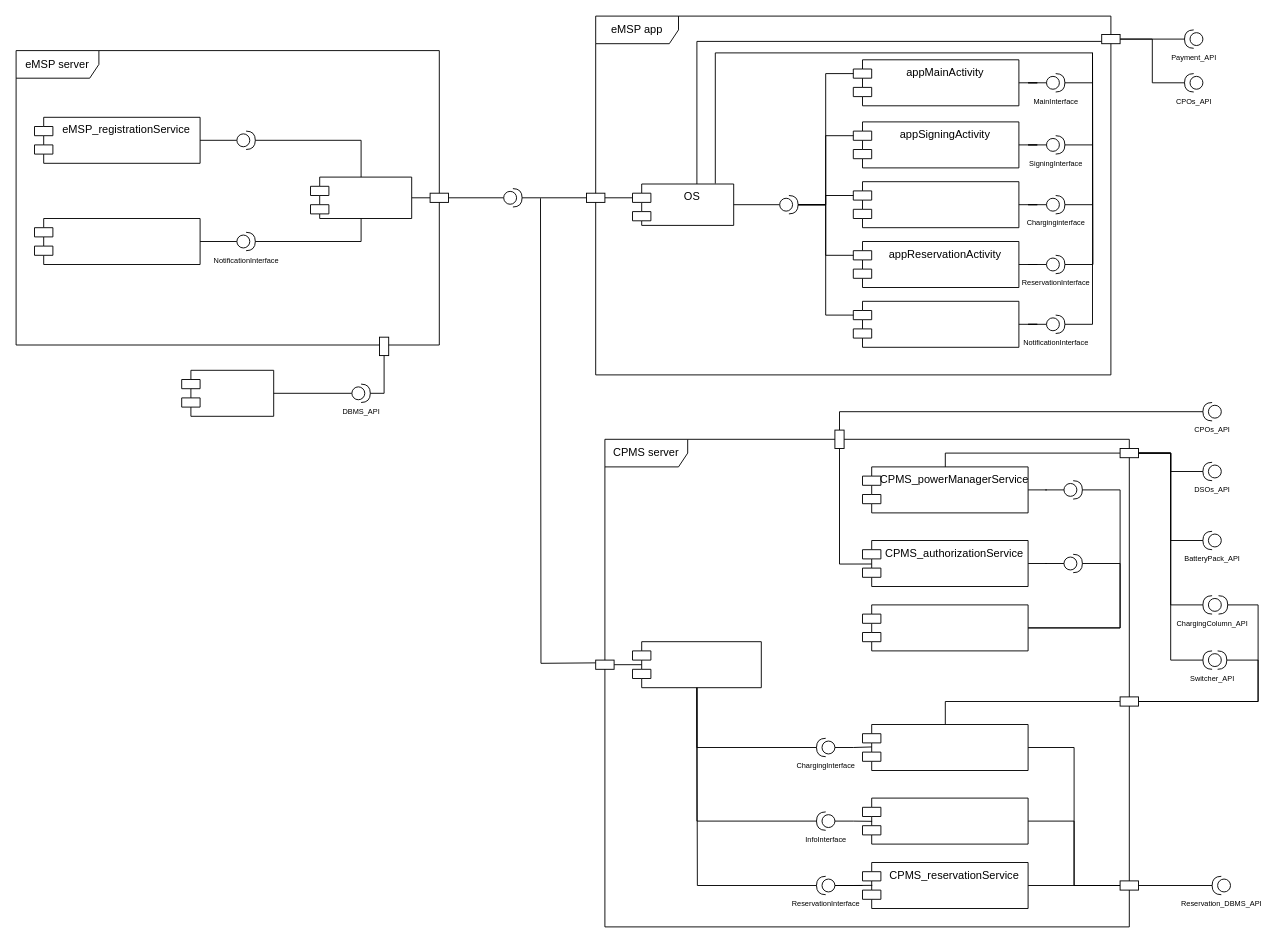
Some shapes in this 1278 by 943 pixel diagram are drawn without their labels. Each missing label, with the box of its shape:
appChargingActivity: (852, 181, 1019, 228)
appNotificationService: (852, 300, 1019, 347)
AuthorizationInterface: (1063, 553, 1082, 573)
CPMS_chargingService: (862, 724, 1028, 770)
CPMS_graphics: (862, 604, 1028, 651)
CPMS_infoService: (862, 797, 1028, 844)
CPMS_router: (632, 641, 761, 688)
eMSP_notificationService: (34, 218, 200, 264)
eMSP_router: (310, 176, 412, 218)
eMSPInterface: (503, 188, 522, 207)
OSInterface: (779, 195, 798, 214)
PowerManagerInterface: (1063, 480, 1082, 499)
RegistrationInterface: (236, 130, 255, 150)
user_DBMS: (181, 369, 274, 416)
